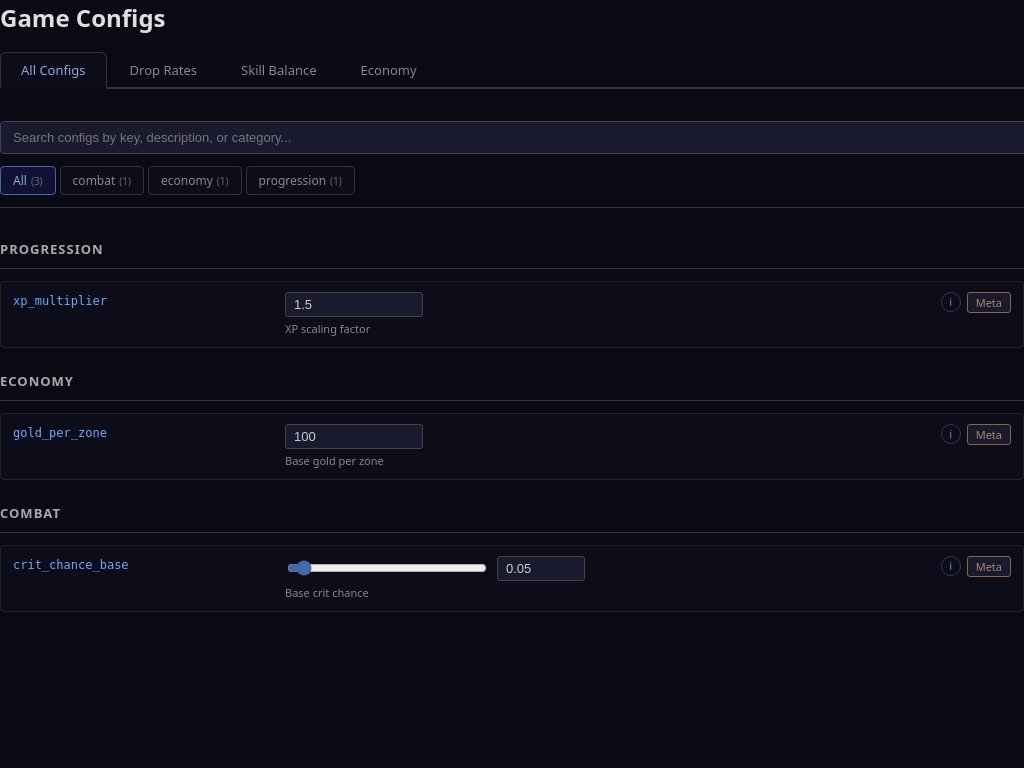
Test case: GameConfigs › clicking modal backdrop closes modal
The image size is (1024, 768).
Expected: the text "xp_multiplier" is shown, top-left (13, 294), bottom-right (107, 308)
Click the button "Meta" in the row of "xp_multiplier".
click(989, 302)  # box top-left (967, 292), bottom-right (1011, 312)
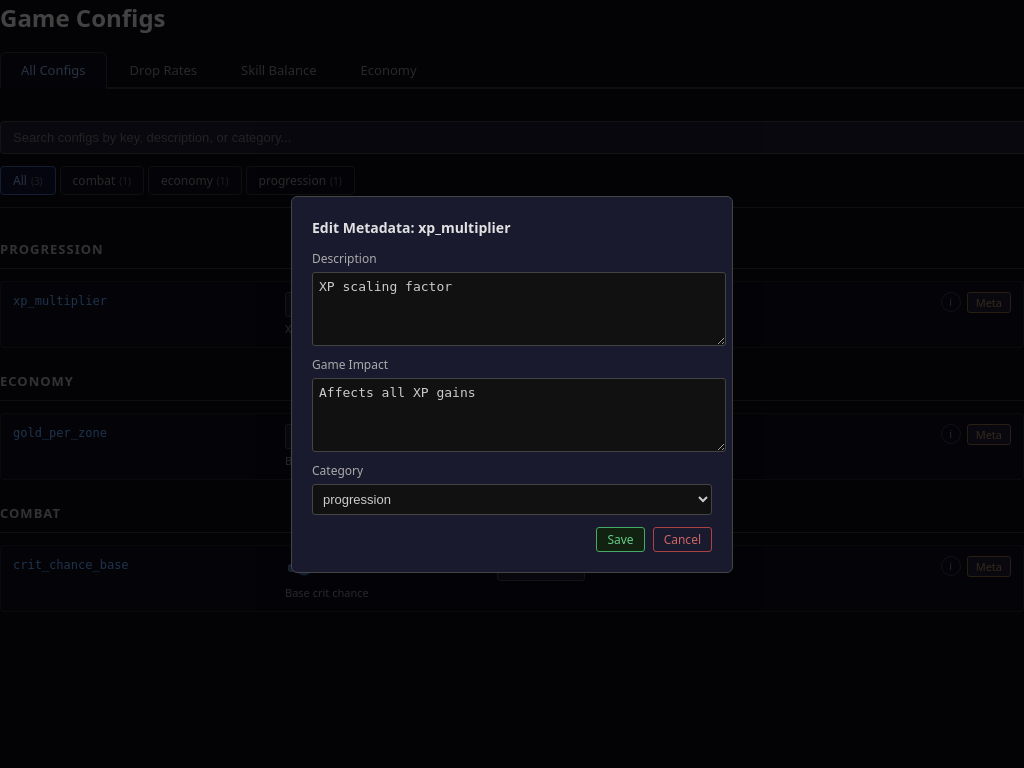
Now the heading "Edit Metadata: xp_multiplier" is shown, box top-left (312, 218), bottom-right (510, 236)
Click the element with class "gc-modal-backdrop".
click(61, 384)  # box top-left (0, 0), bottom-right (1023, 767)
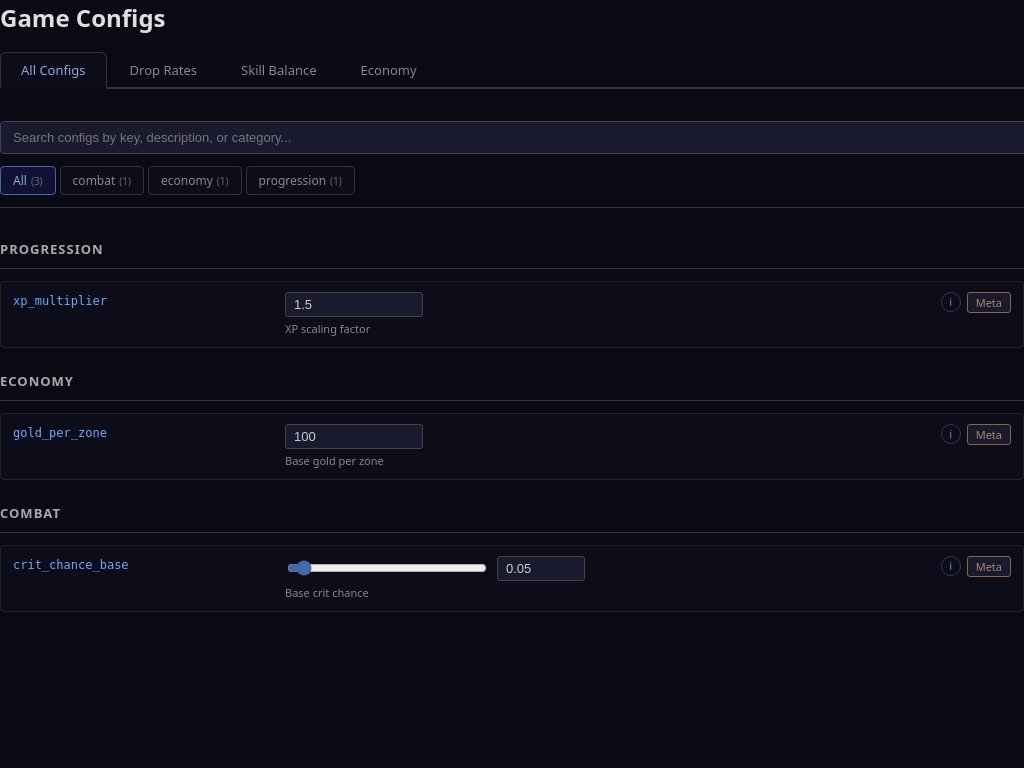
Now the heading "Edit Metadata:" is gone
